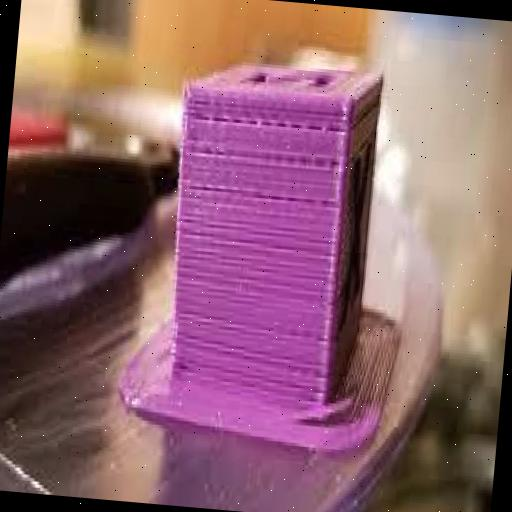cracks: (180, 100, 347, 182), (268, 316, 333, 416), (183, 179, 343, 213), (166, 343, 206, 389)
